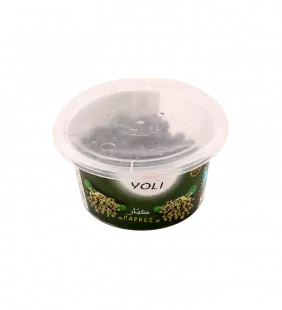YOLI: (44, 68, 237, 236)
